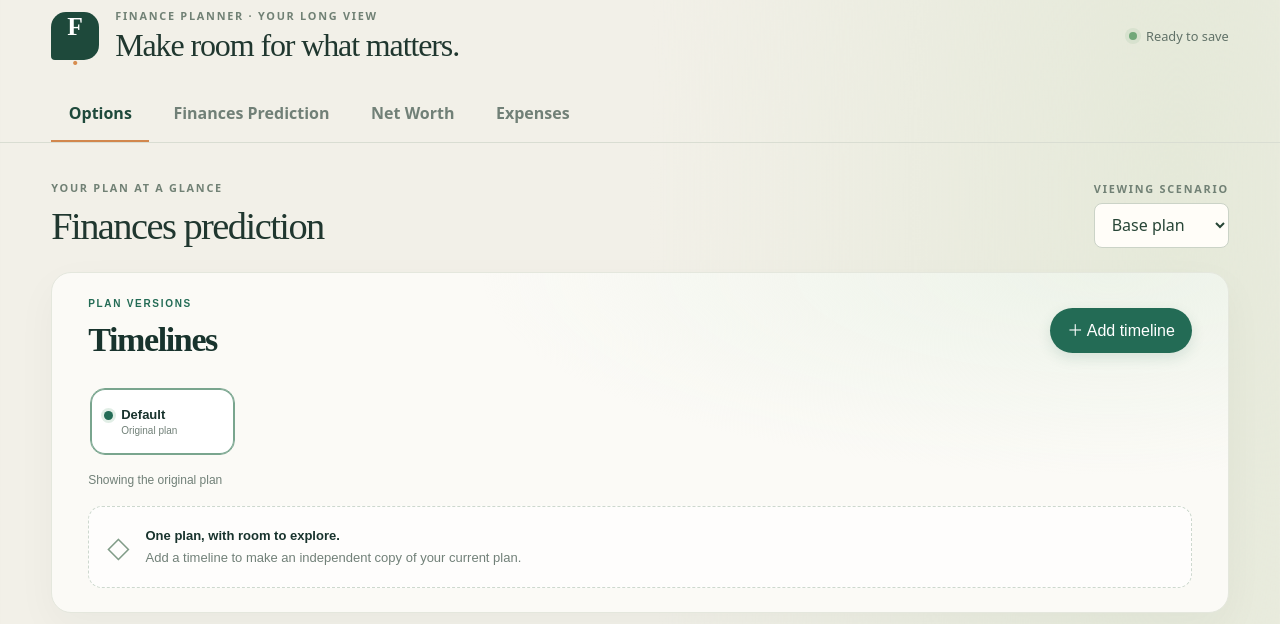
Test: App integration (Phase 5 GUI acceptance) › shows only observed loan funding and the signed closing debt from the shared report
This screenshot has width=1280, height=624.
Click the button "Finances Prediction".
click(251, 115)  # box [156,88,347,142]
(page scrolled)
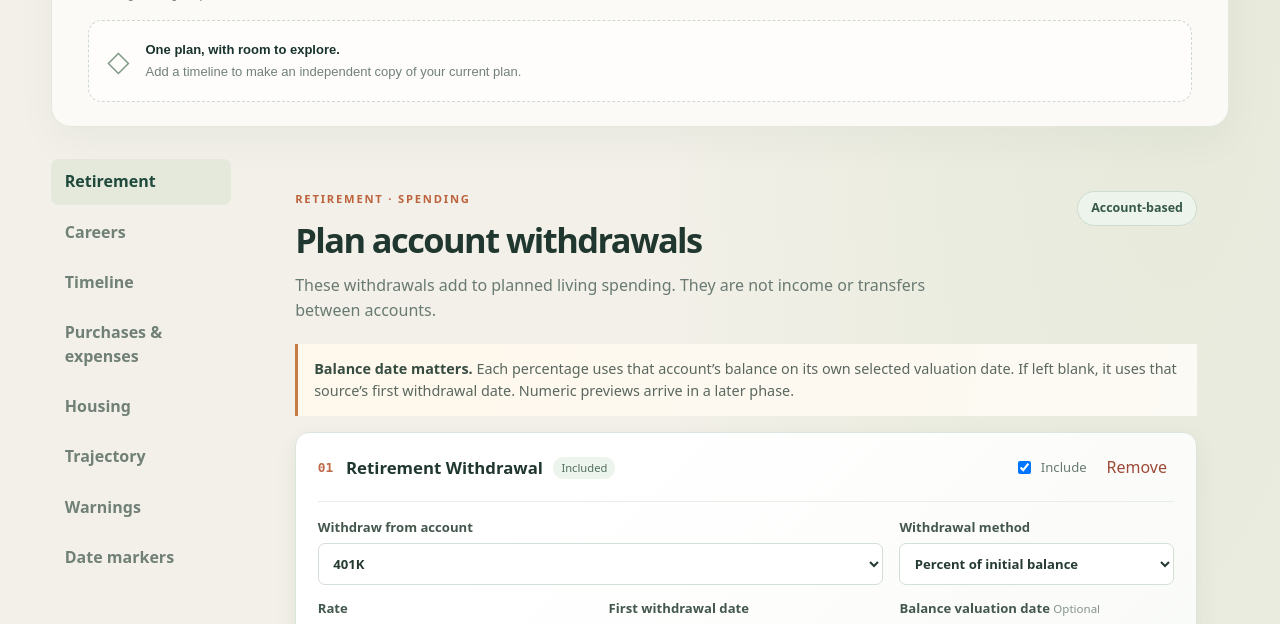
Click the button "Purchases & expenses".
click(141, 345)  # box [51,310,231,379]
(page scrolled)
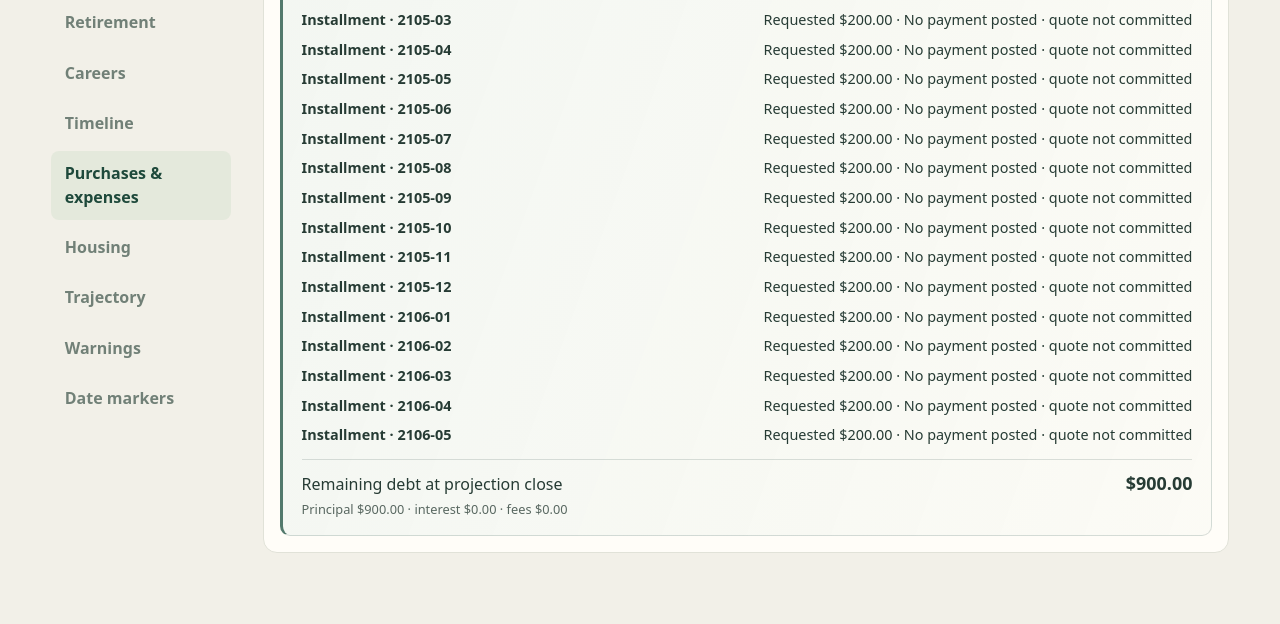
Expected: the text "$900.00" is shown, [1126,471,1192,497]
Expected: the text "Remaining debt at projection close" is shown, [302,473,563,495]
Expected: the text "Principal $900.00 · interest $0.00 · fees $0.00" is shown, [302,500,568,518]
